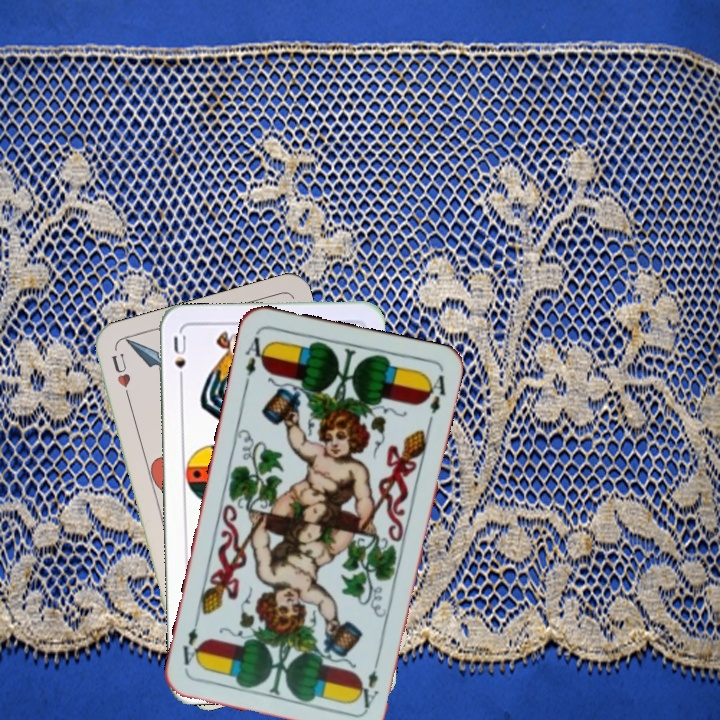EA: (240, 329, 271, 388), (356, 652, 382, 711)
HU: (108, 349, 134, 405)
SU: (169, 331, 190, 388)
